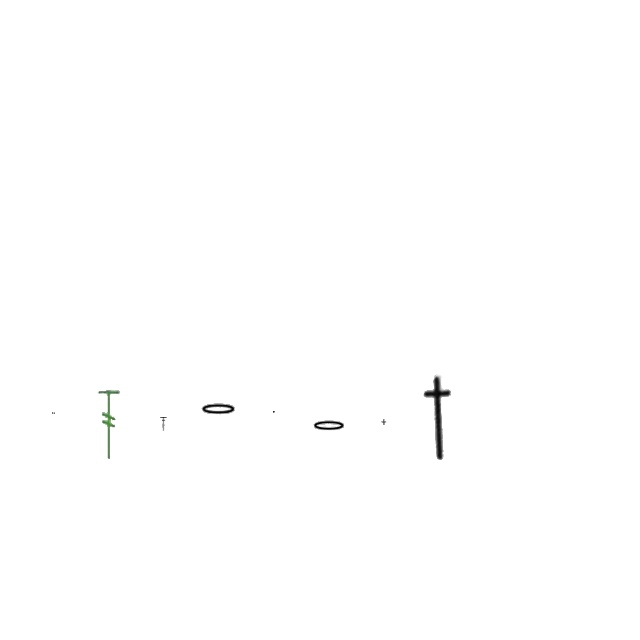chain: (200, 402, 238, 418), (311, 419, 347, 433), (52, 412, 56, 414), (273, 411, 275, 413)
double: (381, 419, 387, 425)
double treble: (160, 417, 168, 431)
enseble_chain: (413, 374, 465, 462)
fan: (96, 389, 122, 461)
